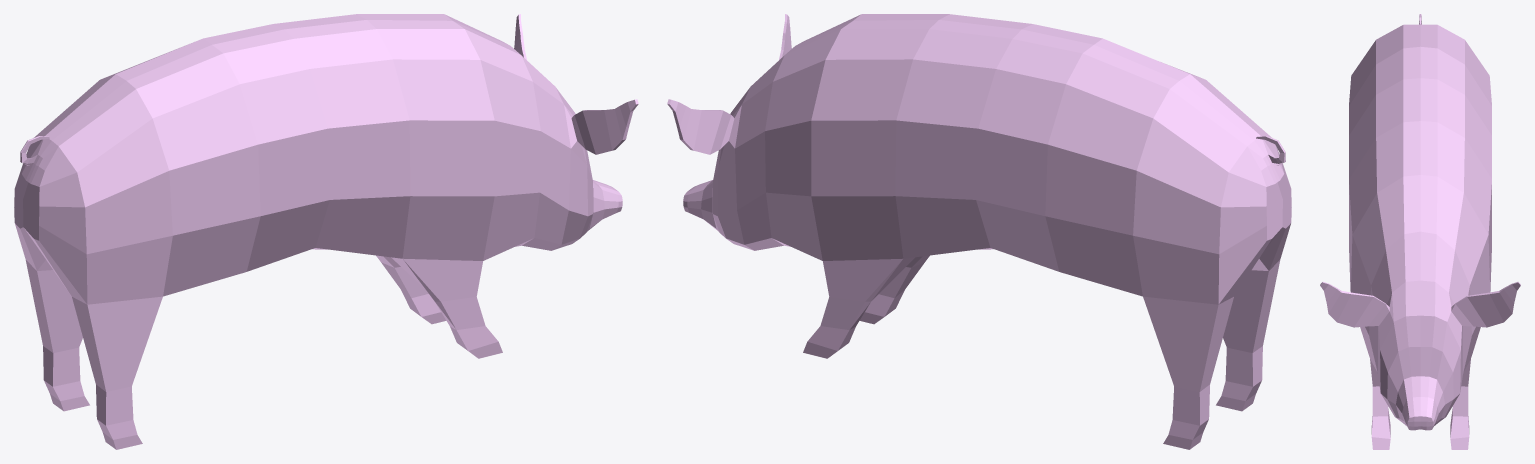
Rendered from pig.glb.
3 renders of one model, left to right at view 1: azimuth 30°, elevation 25°; view 2: azimuth 150°, elevation 25°; view 3: azimuth 270°, elevation 25°, orthographic. The views are drawn at different scales.
Visible parts, largest first — view 1: Plane; view 2: Plane; view 3: Plane.
Boxes of the visible parts, bbox=[...] form: Plane: bbox=[14, 14, 638, 449]; Plane: bbox=[667, 14, 1291, 449]; Plane: bbox=[1320, 14, 1520, 449].
Bounding box in the file's own units: 5.11 × 2.88 × 1.78.
